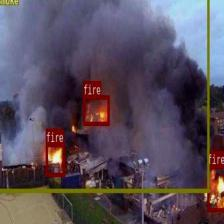fire: (207, 164, 224, 211), (83, 95, 109, 125), (46, 142, 64, 176)
smoke: (0, 0, 209, 191)
